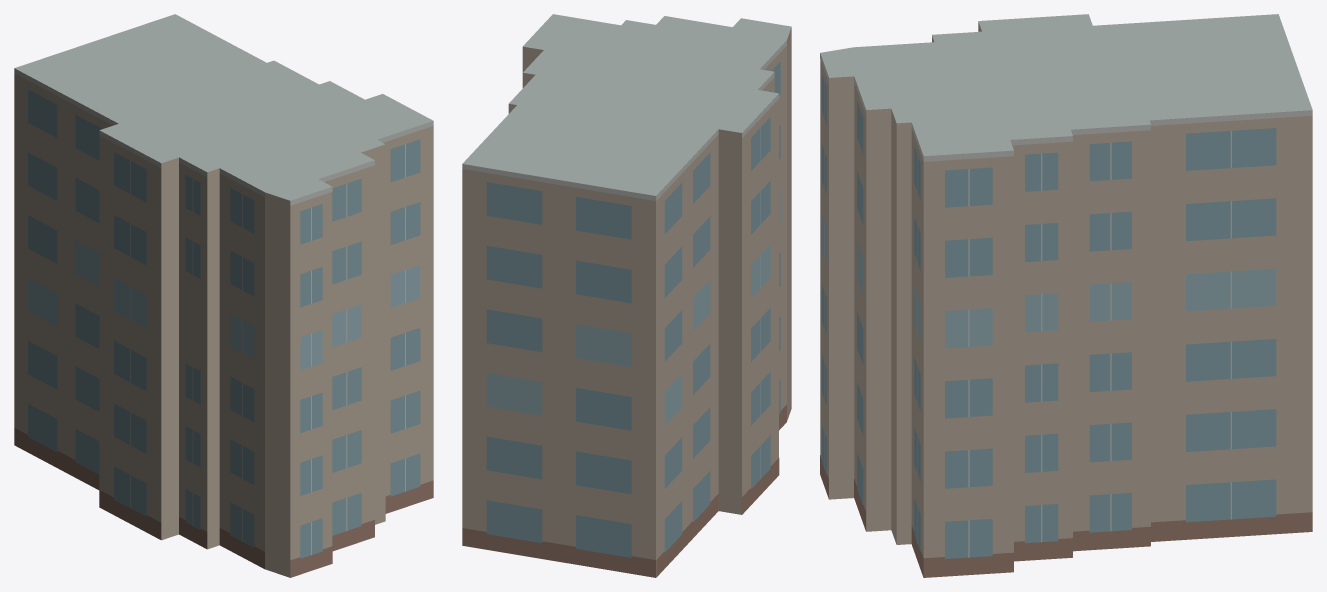
Rendered from survey-upis-32918191.glb.
3 renders of one model, left to right at view 1: azimuth 30°, elevation 25°; view 2: azimuth 150°, elevation 25°; view 3: azimuth 270°, elevation 25°, orthographic. The views are drawn at different scales.
Parts seen in each view (by area): view 1: survey-upis-32918191.tmp; view 2: survey-upis-32918191.tmp; view 3: survey-upis-32918191.tmp.
Boxes of the visible parts, <box> form: survey-upis-32918191.tmp: <box>14,14,433,577</box>; survey-upis-32918191.tmp: <box>462,14,791,577</box>; survey-upis-32918191.tmp: <box>820,14,1312,577</box>.
Size of the model in its own units: 13.25 by 18.3 by 19.39.
